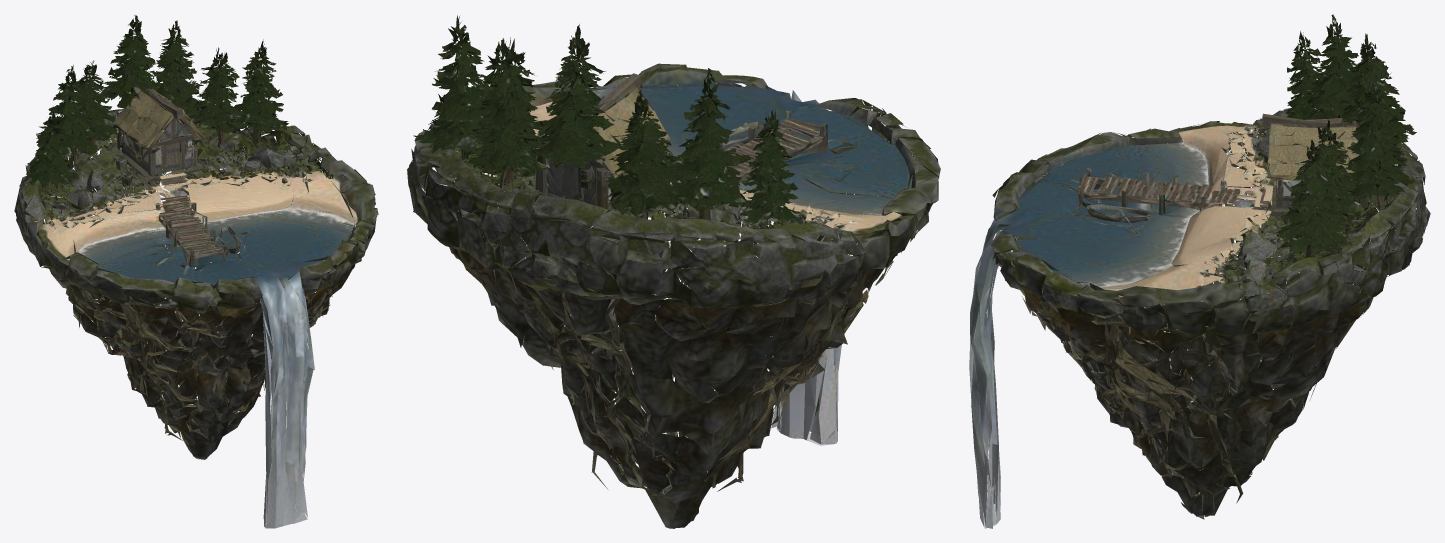
The model's file is isle_coast.glb.
The picture shows the model from 3 angles, left to right: view 1: azimuth 30°, elevation 25°; view 2: azimuth 150°, elevation 25°; view 3: azimuth 270°, elevation 25°; orthographic projection. The views are drawn at different scales.
Parts seen in each view (by area): view 1: Mesh_0; view 2: Mesh_0; view 3: Mesh_0.
Part boxes in pixels (x1=…): Mesh_0: x1=14, y1=15, x2=378, y2=528; Mesh_0: x1=407, y1=15, x2=940, y2=528; Mesh_0: x1=969, y1=14, x2=1430, y2=528.
Bounding box in the file's own units: 10 × 12.27 × 10.55.
1 material, 1 textured.
